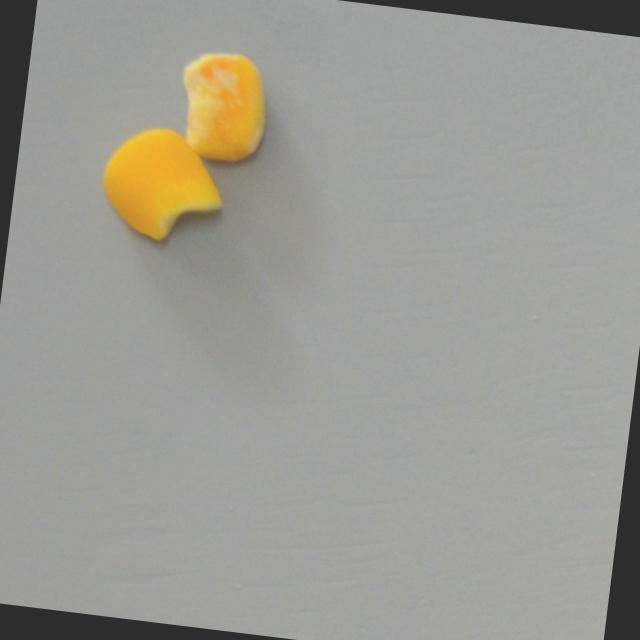no_canjicado: (94, 120, 232, 248)
pelicula: (174, 47, 276, 165)
